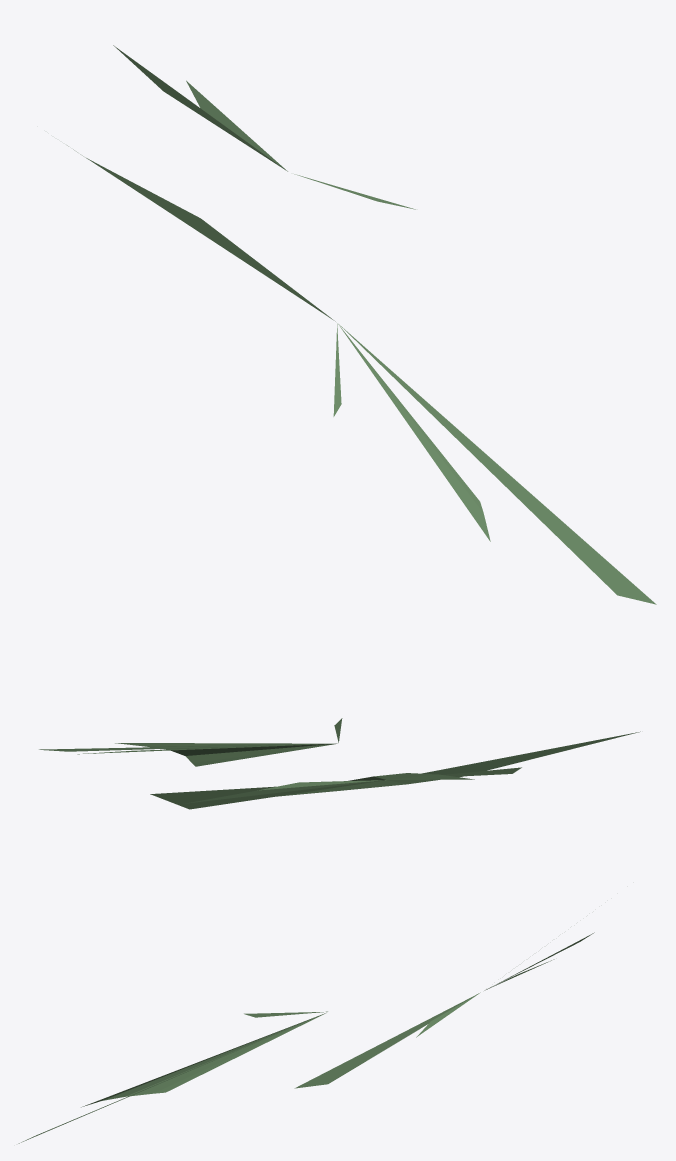
File: c_1671_17822_forest.glb
3 renders of one model, top to bottom at view 1: azimuth 30°, elevation 25°; view 2: azimuth 210°, elevation 25°; view 3: azimuth 270°, elevation 25°, orthographic. The views are drawn at different scales.
Parts seen in each view (by area): view 1: geometry_0; view 2: geometry_0; view 3: geometry_0.
Boxes of the visible parts, left/top/right/bottom form: geometry_0: left=67, top=45, right=656, bottom=604; geometry_0: left=39, top=718, right=640, bottom=809; geometry_0: left=18, top=932, right=594, bottom=1143.
Size of the model in its own units: 241 by 193 by 530.
